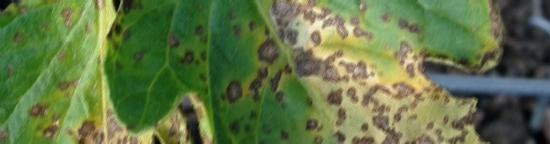Tomato Septoria leaf spot: (0, 0, 522, 144), (0, 0, 237, 144)
